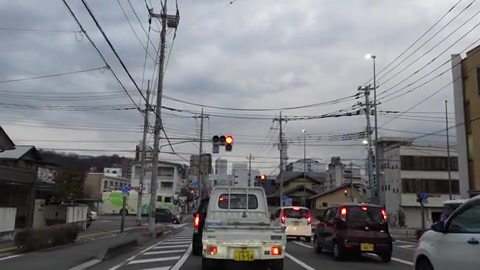traffic_sign: (120, 185, 129, 194)
